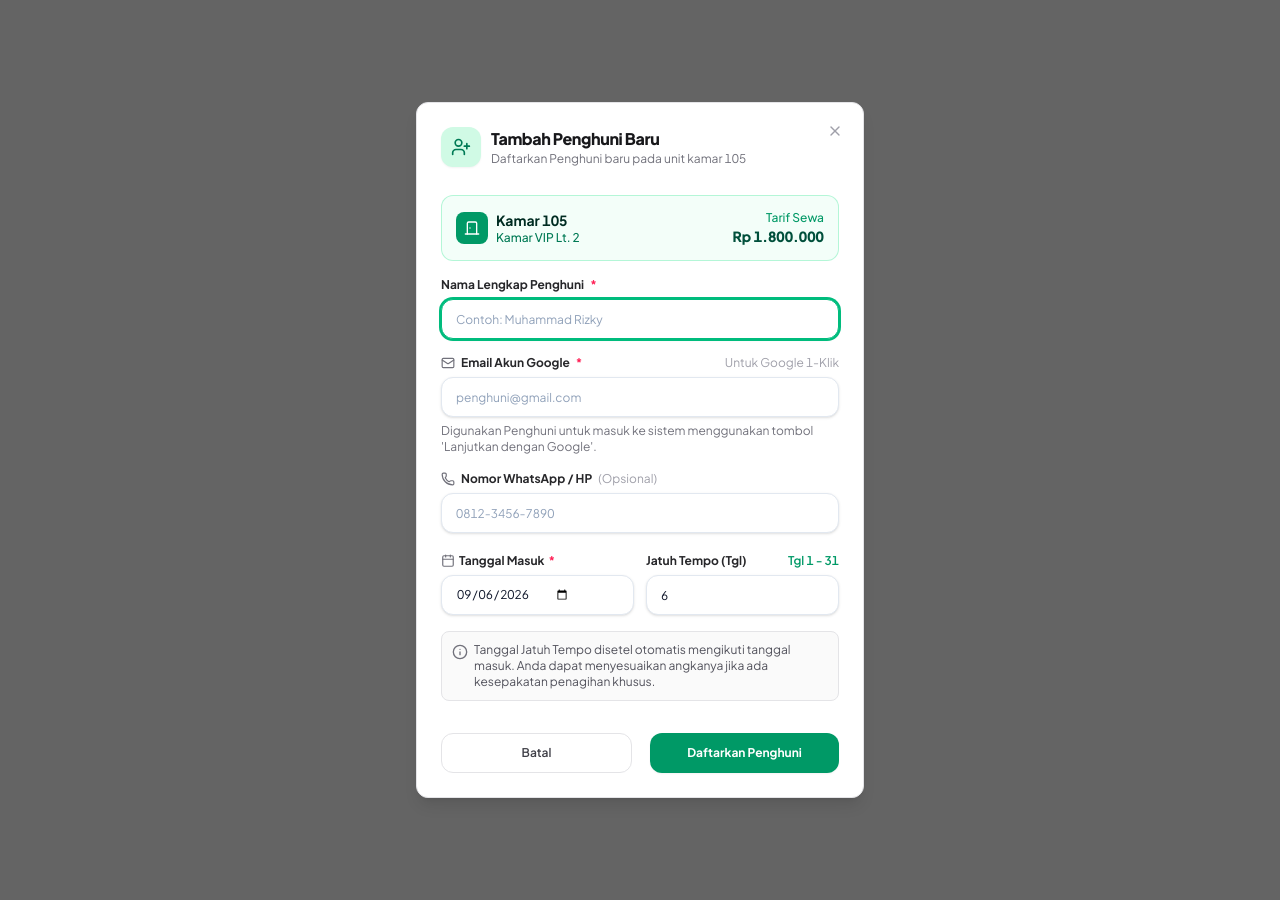
Test: Manajemen Kamar Dialog Components › 1. TambahPenghuniDialog › memvalidasi nama kosong dan format email yang tidak valid
# Submit tanpa nama
Click the button "Daftarkan Penghuni": (744, 753) x1=650 y1=733 x2=839 y2=773
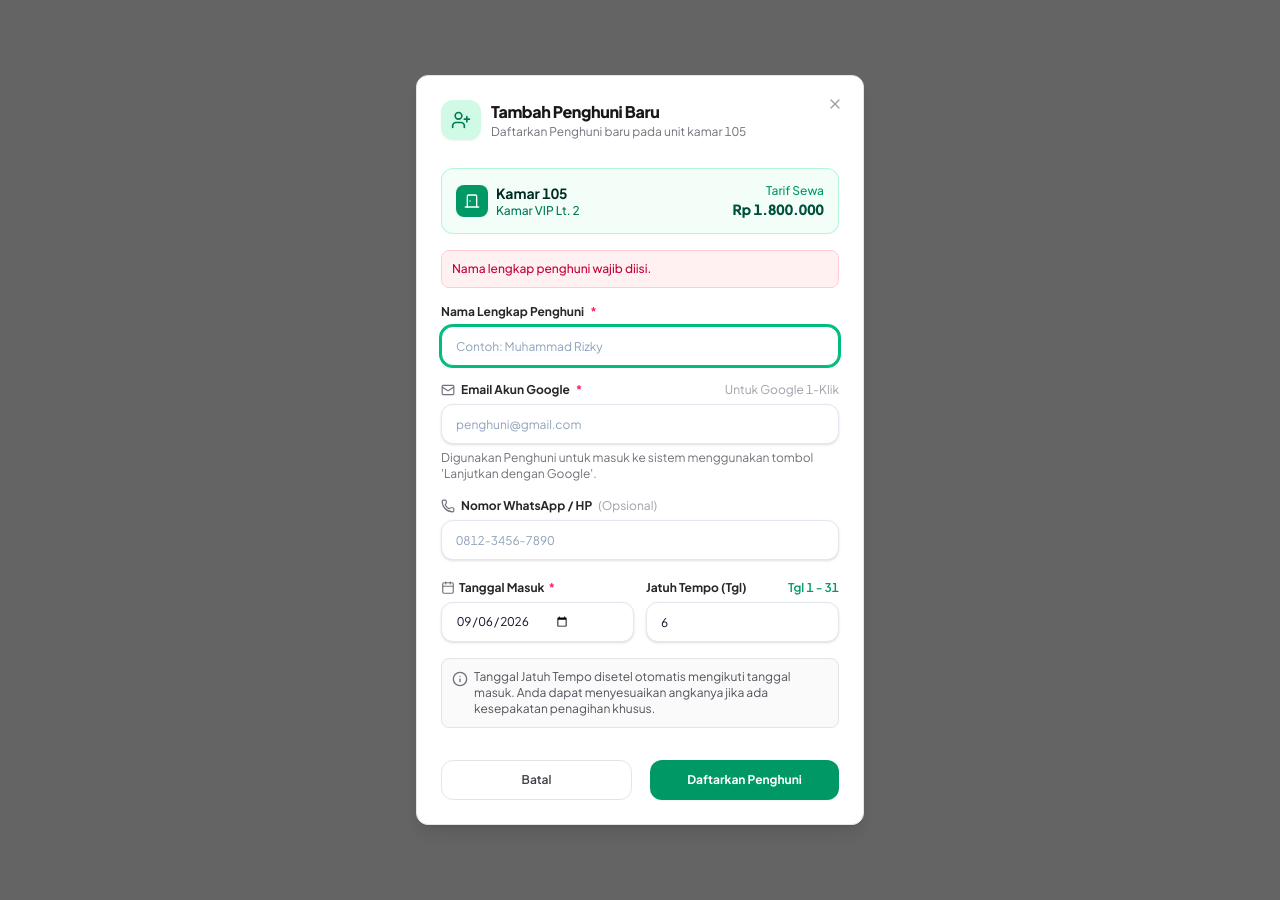
Check: the text "Nama lengkap penghuni wajib diisi." is shown, box x1=441 y1=250 x2=839 y2=288
# Isi nama, tapi email invalid
In the field labelled "Nama Lengkap Penghuni *": (640, 346) x1=441 y1=326 x2=839 y2=366, type "Budi Santoso"
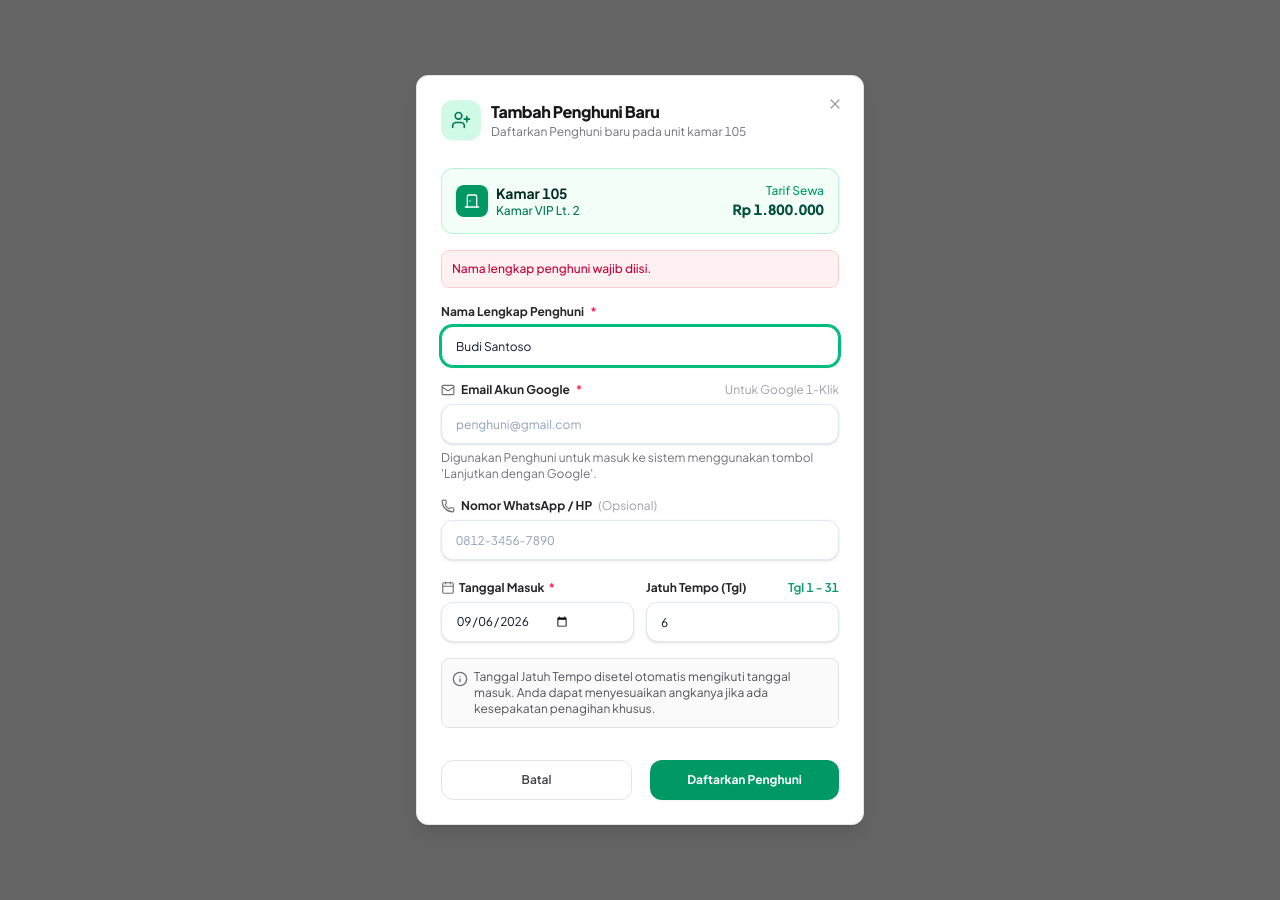
In the field labelled "Email Akun Google * Untuk Google 1-Klik": (640, 424) x1=441 y1=404 x2=839 y2=444, type "invalid-email"
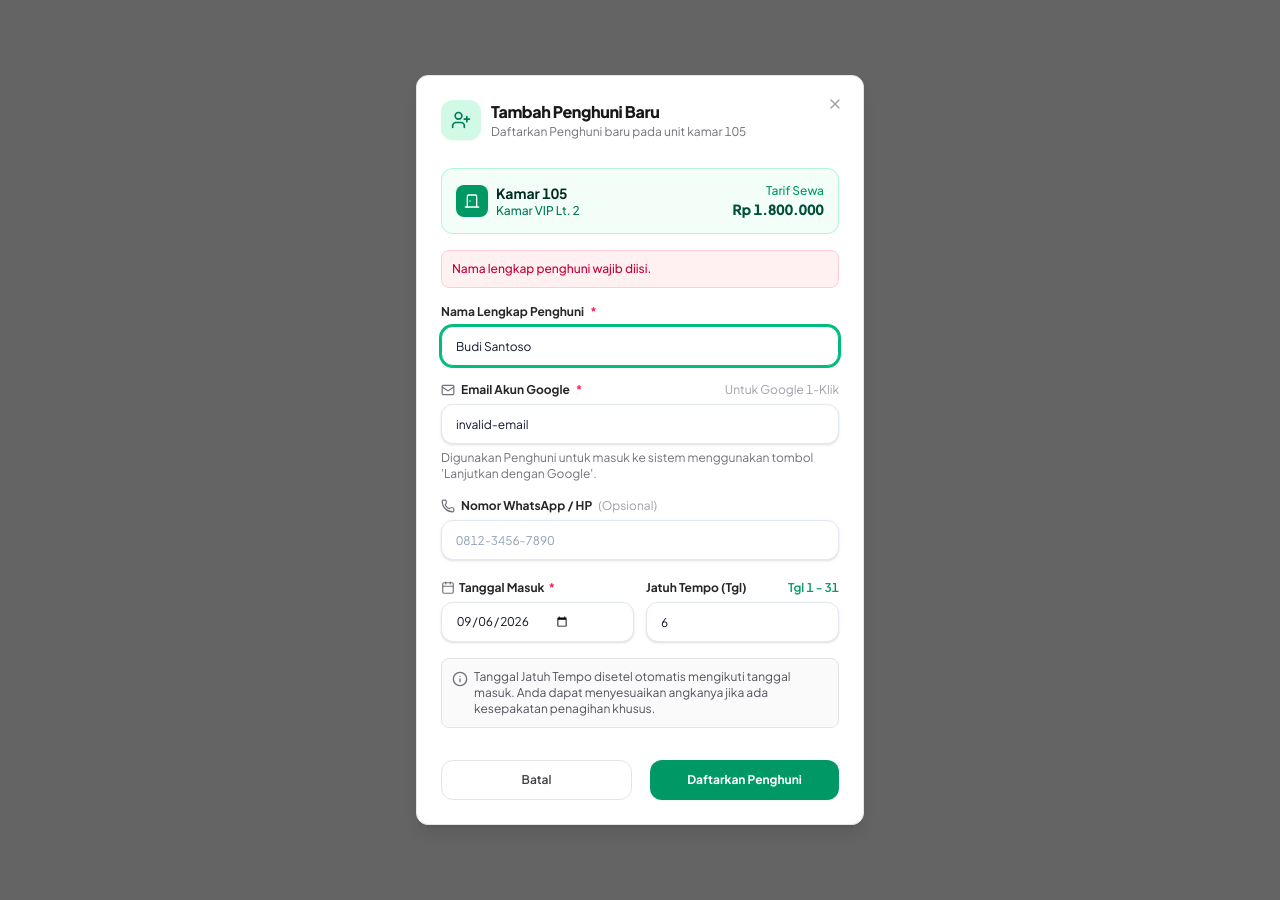
Click the button "Daftarkan Penghuni": (744, 780) x1=650 y1=760 x2=839 y2=800
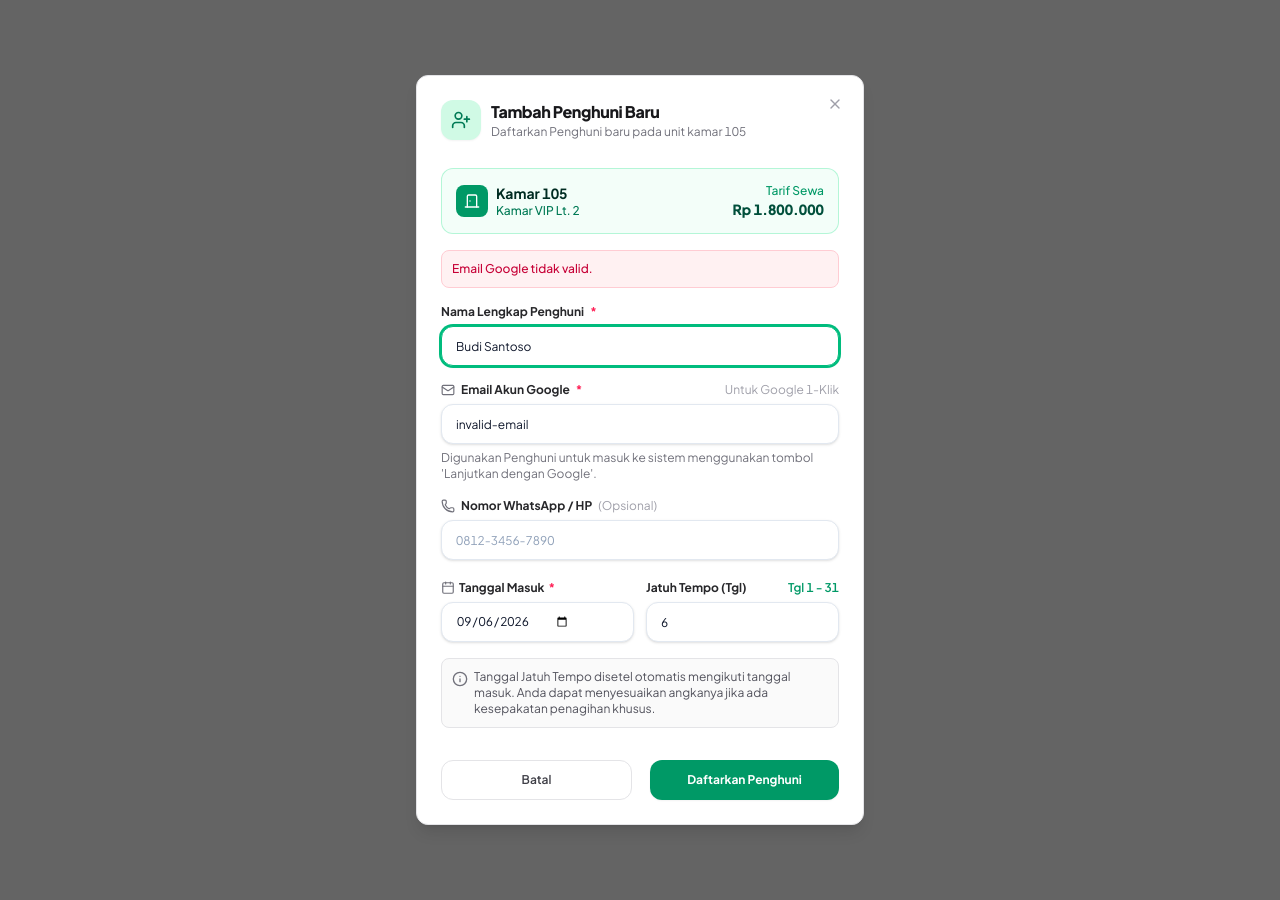
Check: the text "Email Google tidak valid." is shown, box x1=441 y1=250 x2=839 y2=288
